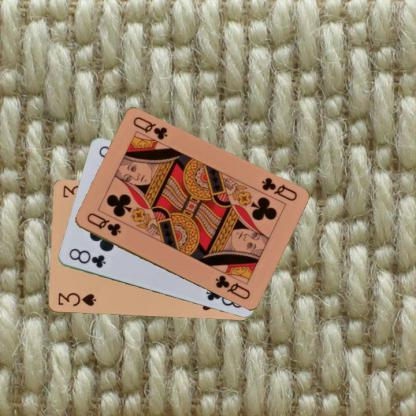3s: (55, 290, 97, 308)
8c: (66, 245, 107, 270)
Qc: (258, 175, 298, 203), (84, 210, 122, 238)
